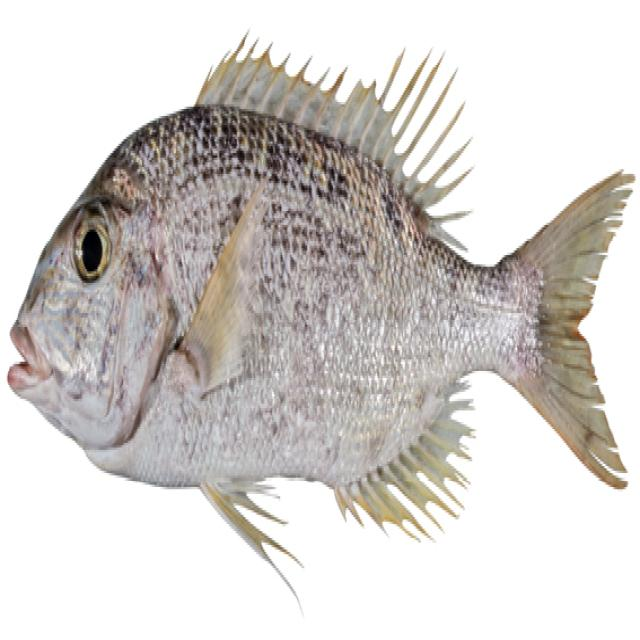ikan: (7, 31, 635, 578)
